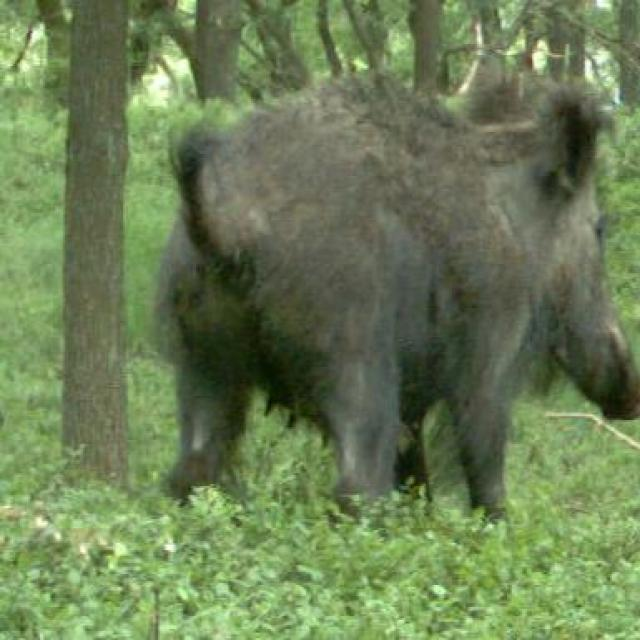pig: (178, 69, 640, 532)
